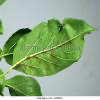Apple Scab Leaf: (12, 15, 96, 76)
